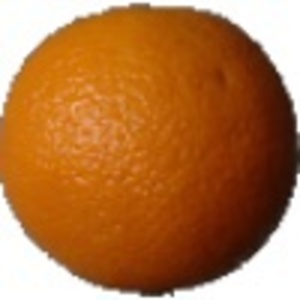laranja: (1, 3, 297, 294)
